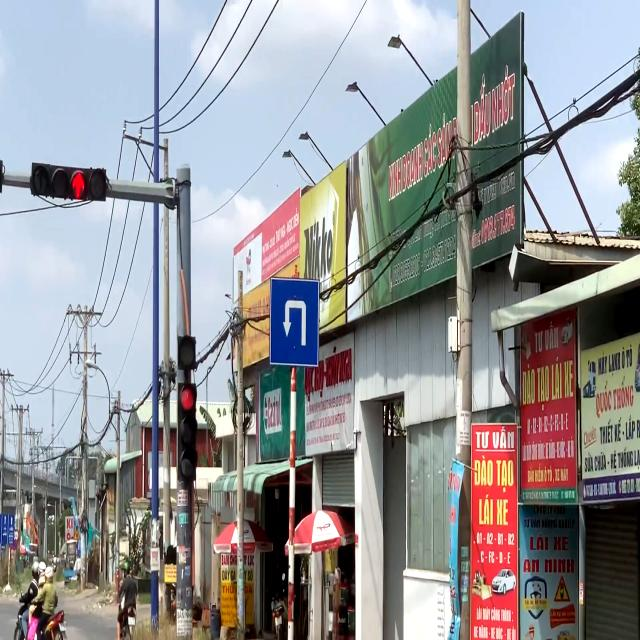R.409: (270, 274, 320, 368)
